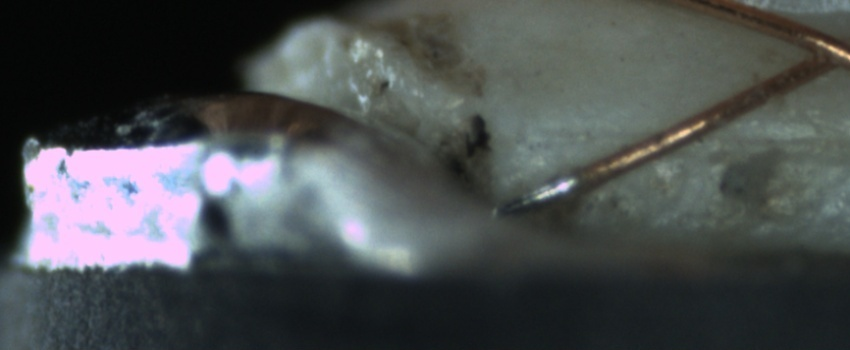CL: (774, 23, 849, 88)
DL: (543, 106, 850, 172)
TS: (494, 170, 581, 215)
